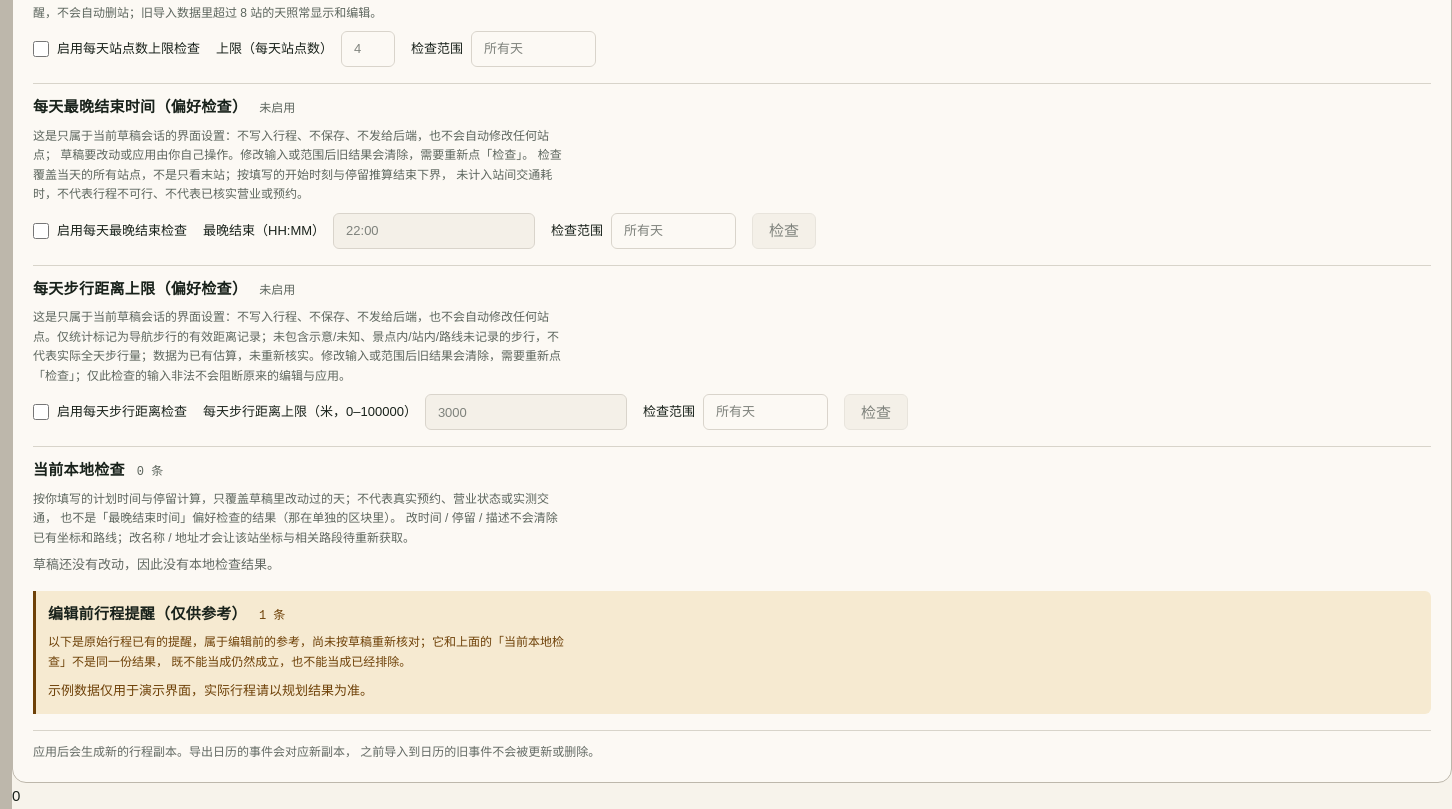
it: 每天步行距离上限偏好：默认状态与显式检查 › 范围 changed_days 且没有改动天：明确「没有已改动过的天可检查」，不冒「未超限」
(page scrolled)
Click the checkbox labelled "启用每天步行距离检查" at (41, 412), box [33,404,49,420]
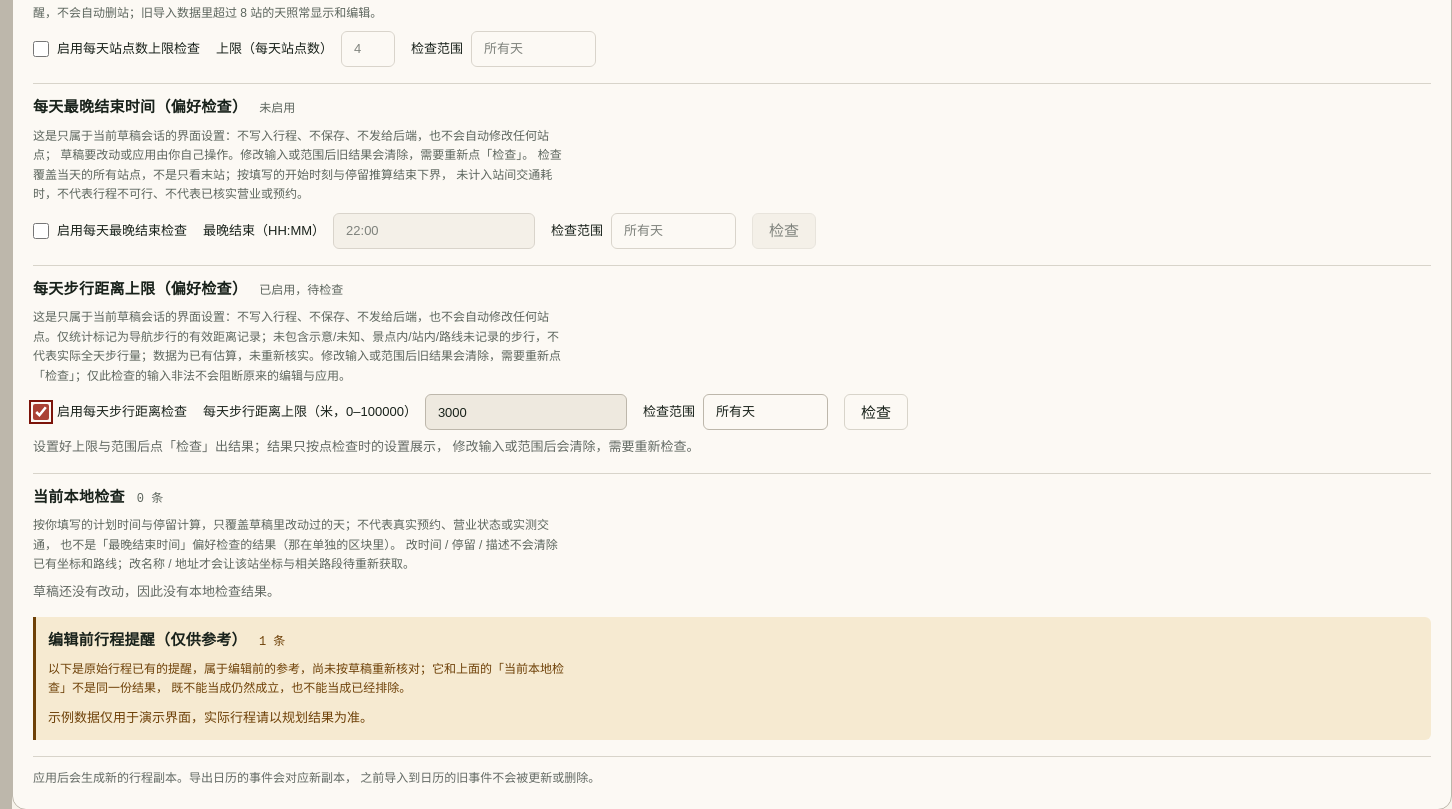
Select "仅改动过的天" in the dropdown named "步行距离检查范围" at (765, 412), box [703,394,828,430]
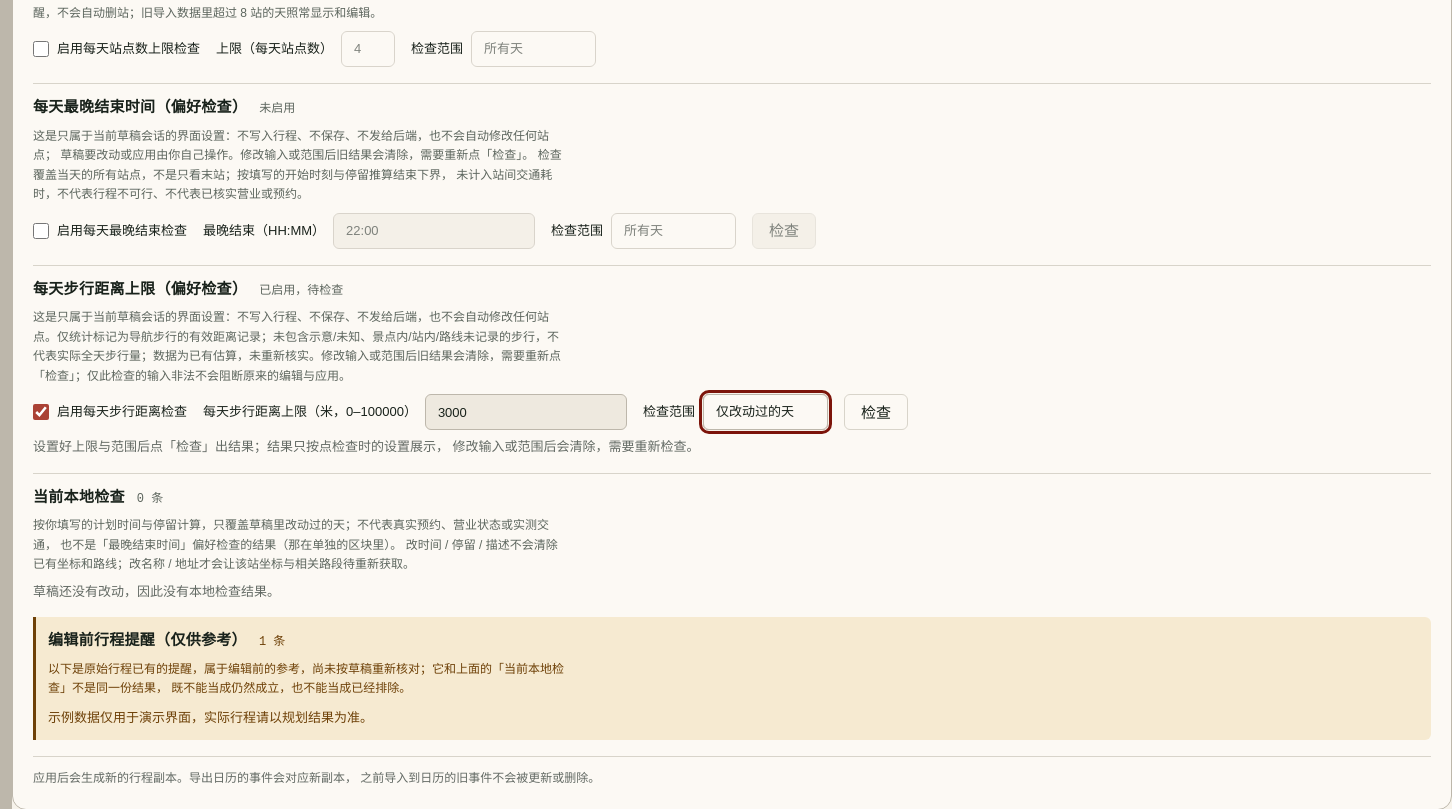
Click the button "检查" in the row of "100000" at (876, 412), box [844,394,908,430]
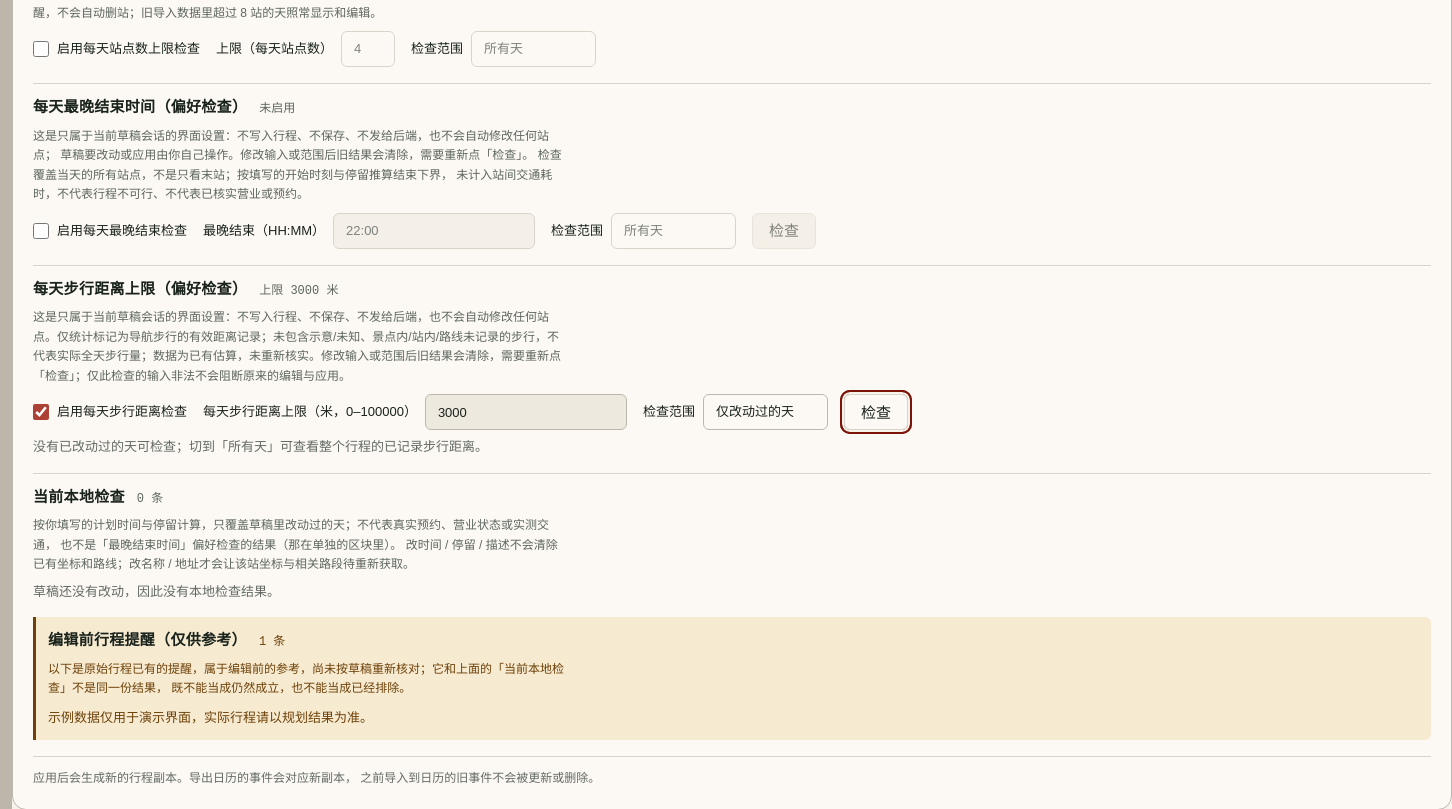
Check: the text "没有已改动过的天可检查；切到「所有天」可查看整个行程的已记录步行距离。" is shown, box [33,439,488,454]
